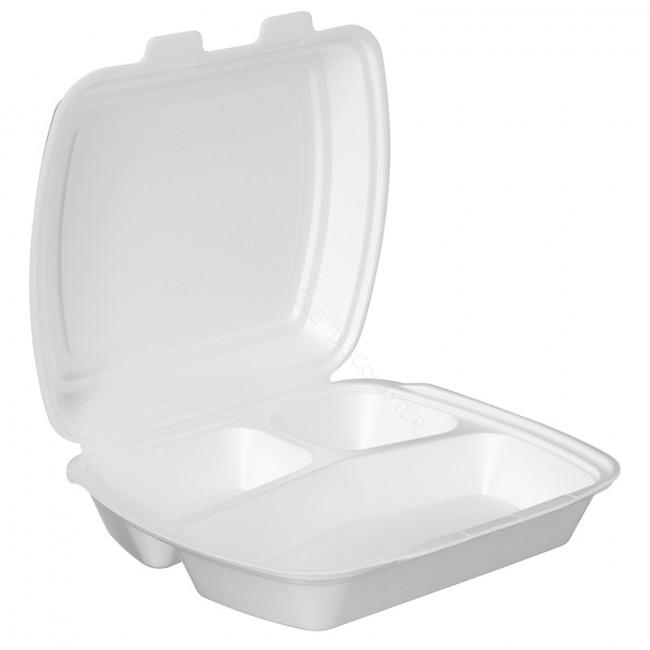PS: (32, 11, 622, 623)
